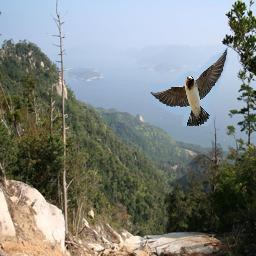Swallow: (150, 46, 228, 126)
